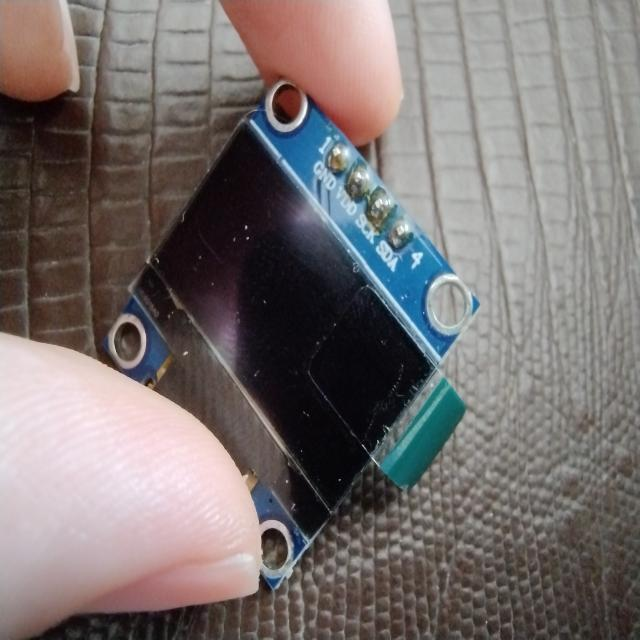oled: (100, 70, 482, 596)
